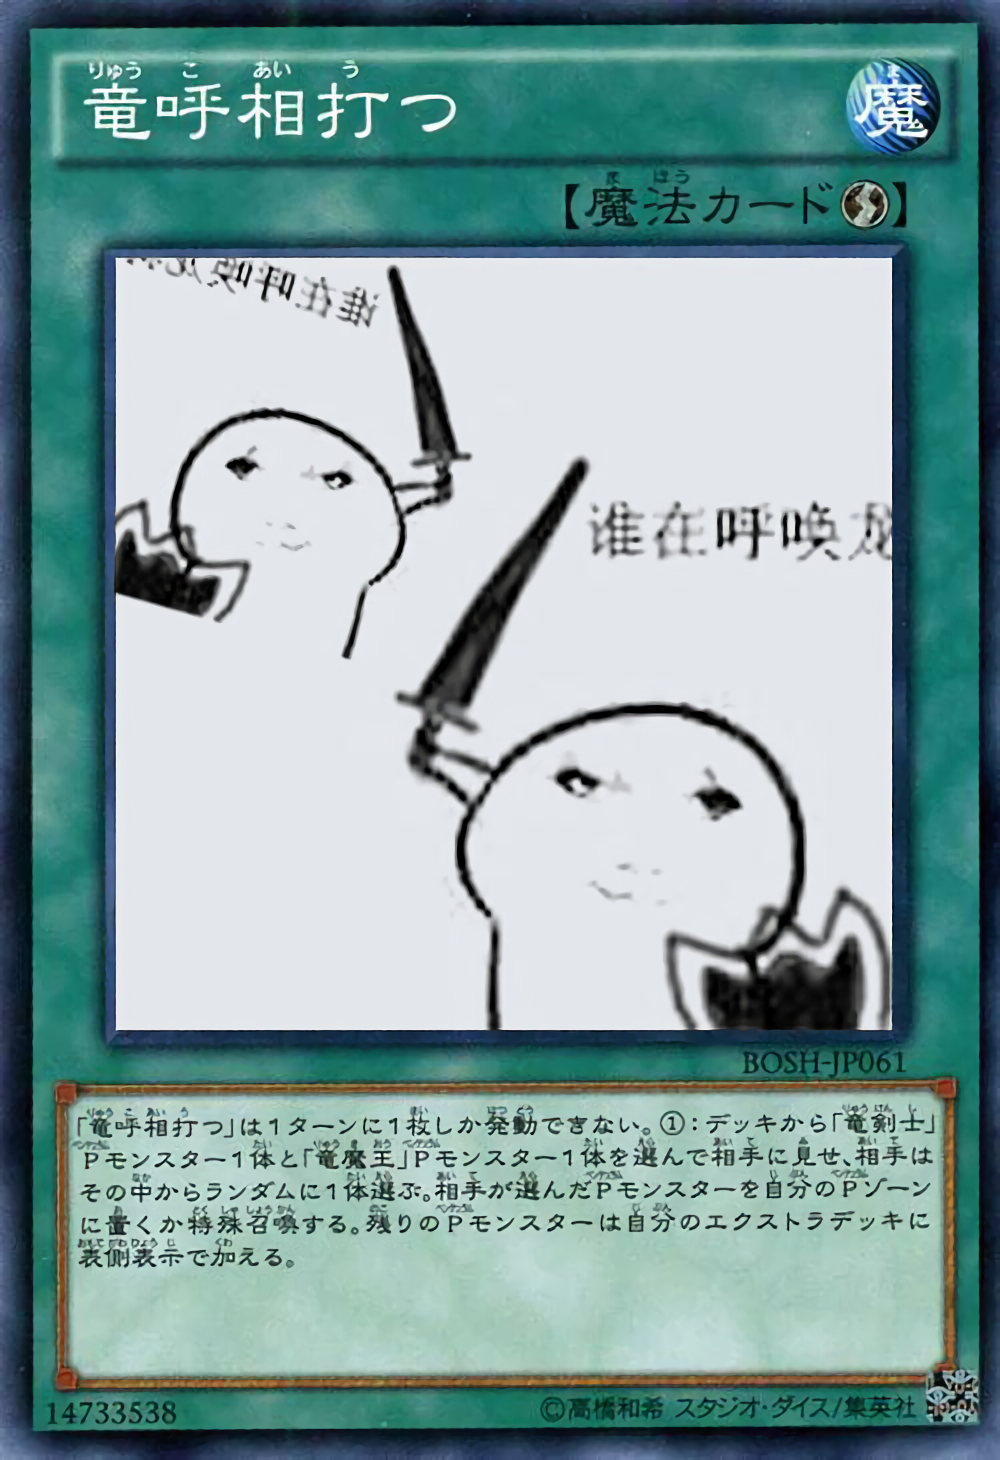dragon: (554, 759, 747, 919), (228, 448, 358, 559)
